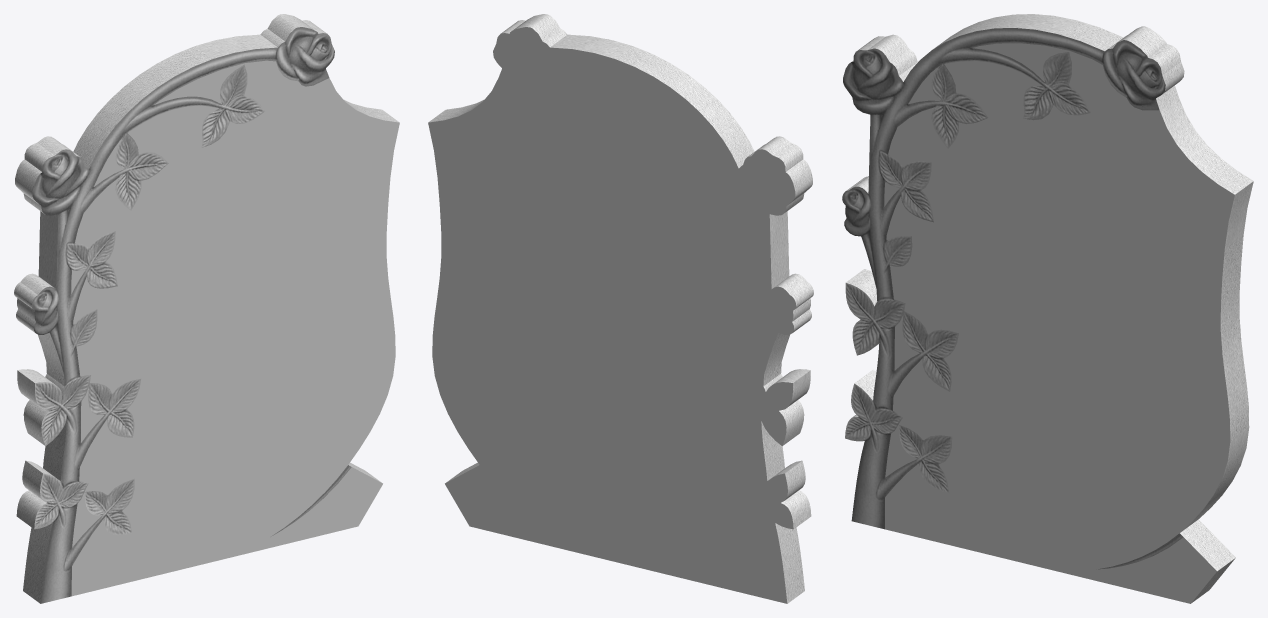
The model's file is cnc5d6cc0041_tkf.glb.
The picture shows the model from 3 angles, left to right: view 1: azimuth 30°, elevation 25°; view 2: azimuth 150°, elevation 25°; view 3: azimuth 330°, elevation 25°; orthographic projection. The views are drawn at different scales.
Parts seen in each view (by area): view 1: Pam-d03-321, Pam-d03-321_2_notexture; view 2: Pam-d03-321, Pam-d03-321_2_notexture; view 3: Pam-d03-321, Pam-d03-321_2_notexture.
Part boxes in pixels (<box>): Pam-d03-321: <box>71,60,399,596</box>; Pam-d03-321_2_notexture: <box>14,14,399,603</box>; Pam-d03-321: <box>428,27,796,603</box>; Pam-d03-321_2_notexture: <box>428,14,813,603</box>; Pam-d03-321: <box>884,43,1234,603</box>; Pam-d03-321_2_notexture: <box>842,14,1253,603</box>.
Size of the model in its own units: 0.6 by 0.8 by 0.05.
1 material, 1 textured.
